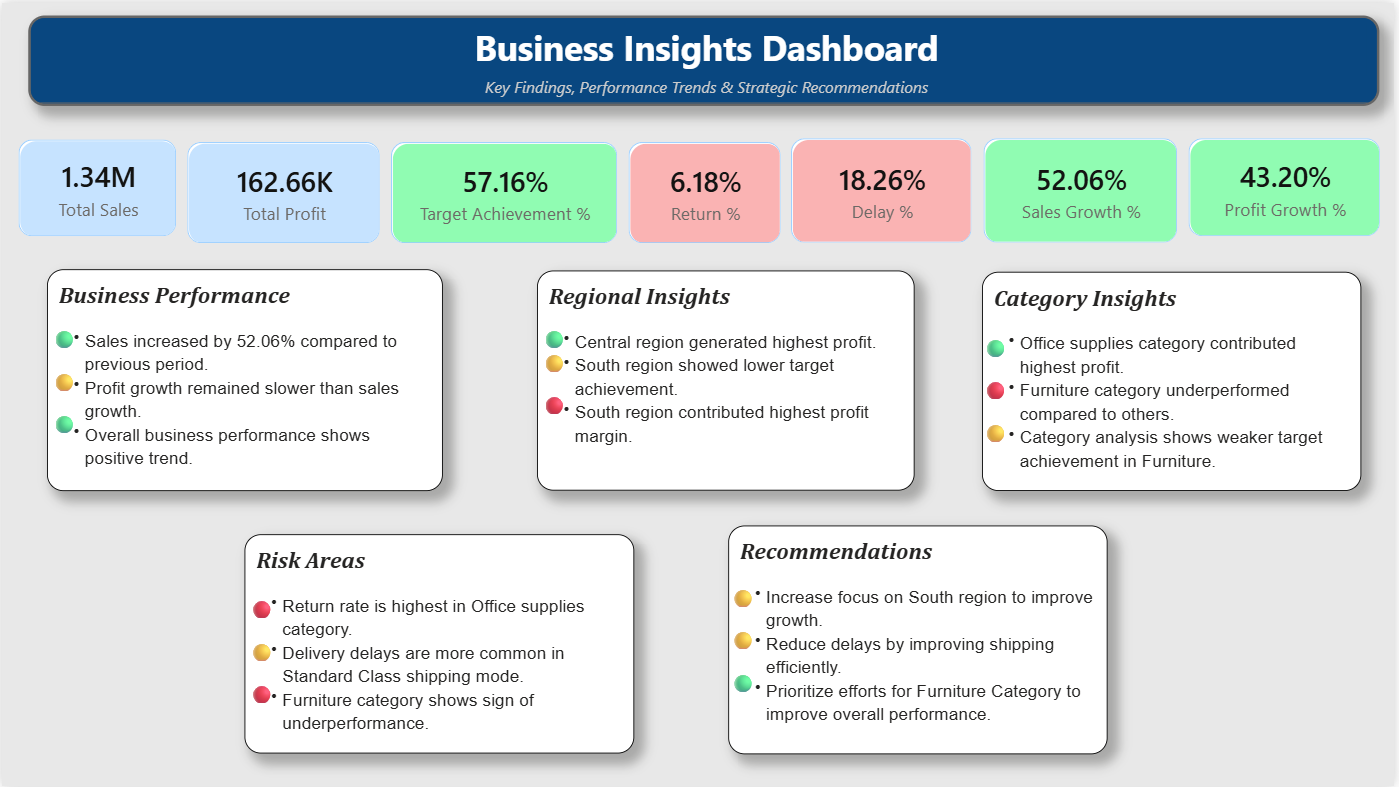

The dashboard page shown, as its layout file describes it:
{"tool":"powerbi","page":{"name":"Business Insights","canvas":[1280,720],"ordinal":4},"visuals":[{"type":"cardVisual","fields":{"Data":["MeasureTable.Total Sales"]},"box":[10,121.2,155.3,99],"z":0},{"type":"cardVisual","fields":{"Data":["MeasureTable.Total Profit"]},"box":[165.3,122.4,187.1,103.9],"z":1000},{"type":"cardVisual","fields":{"Data":["MeasureTable.Target Achievement %"]},"box":[352.4,122.4,218.9,103.9],"z":2000},{"type":"cardVisual","fields":{"Data":["MeasureTable.Return %"]},"box":[571.3,122.4,150.4,103.9],"z":3000},{"type":"cardVisual","fields":{"Data":["MeasureTable.Delay %"]},"box":[721.2,120,176.2,106.2],"z":4000},{"type":"cardVisual","fields":{"Data":["MeasureTable.Sales Growth %"]},"box":[897.5,120,188.8,106.2],"z":5000},{"type":"textbox","box":[41,244.9,364.3,203.9],"z":6000},{"type":"cardVisual","fields":{"Data":["MeasureTable.Profit Growth %"]},"box":[1086.2,120,186.2,100],"z":7000},{"type":"textbox","box":[492.5,246.2,347.5,202.5],"z":8000},{"type":"textbox","box":[901.2,247.5,348.8,201.2],"z":9000},{"type":"textbox","box":[223.2,488.6,358.3,201.5],"z":10000},{"type":"textbox","box":[667.5,480,348.8,210],"z":11000},{"type":"textbox","box":[41,293.2,32.6,115.8],"z":12000},{"type":"textbox","box":[492.2,293.2,31.4,115.8],"z":13000},{"type":"textbox","box":[897.6,301.6,32.6,115.8],"z":14000},{"type":"textbox","box":[223.2,541.7,32.6,115.8],"z":15000},{"type":"textbox","box":[666,530.8,32.6,117],"z":16000},{"type":"textbox","title":"Business Insights Dashboard","box":[24.1,12.1,1242.6,83.2],"z":17000}]}

Visuals, with their boxes in screenshot pixels (x1, y1, x2, y2), scaled from the page's 1280x720 canvas onto the 1399x787 screenshot:
cardVisual - MeasureTable.Total Sales: <box>11,132,181,241</box>
cardVisual - MeasureTable.Total Profit: <box>181,134,385,247</box>
cardVisual - MeasureTable.Target Achievement %: <box>385,134,624,247</box>
cardVisual - MeasureTable.Return %: <box>624,134,789,247</box>
cardVisual - MeasureTable.Delay %: <box>788,131,981,247</box>
cardVisual - MeasureTable.Sales Growth %: <box>981,131,1187,247</box>
textbox: <box>45,268,443,491</box>
cardVisual - MeasureTable.Profit Growth %: <box>1187,131,1391,240</box>
textbox: <box>538,269,918,490</box>
textbox: <box>985,271,1366,490</box>
textbox: <box>244,534,636,754</box>
textbox: <box>730,525,1111,754</box>
textbox: <box>45,320,80,447</box>
textbox: <box>538,320,572,447</box>
textbox: <box>981,330,1017,456</box>
textbox: <box>244,592,280,719</box>
textbox: <box>728,580,764,708</box>
"Business Insights Dashboard" textbox: <box>26,13,1384,104</box>
